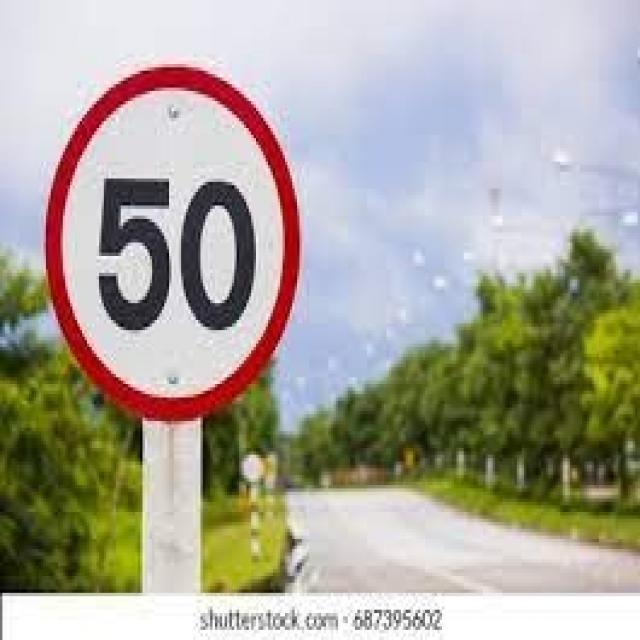speed_limit_50: (37, 58, 306, 425)
